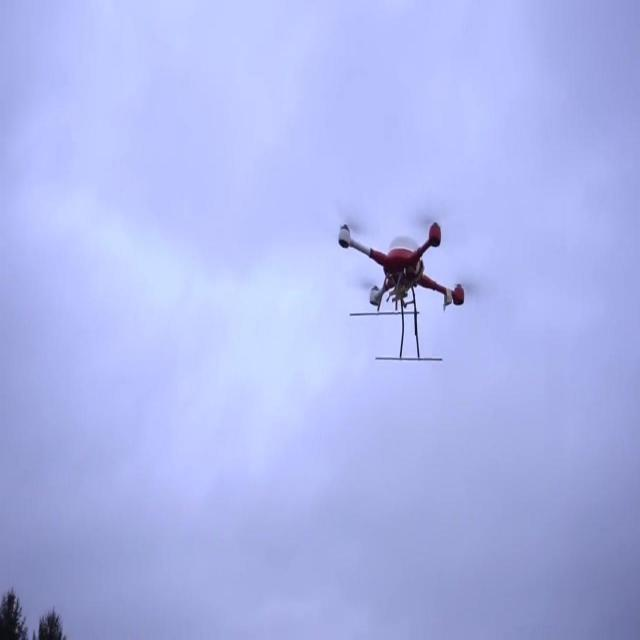UAV: (338, 208, 484, 361)
